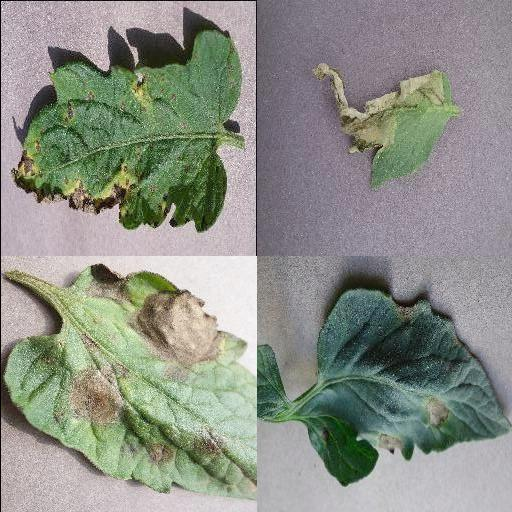Early Blight: (302, 287, 512, 488)
Late Blight: (0, 264, 256, 502), (311, 62, 453, 190)
Septoria: (12, 27, 240, 228)
